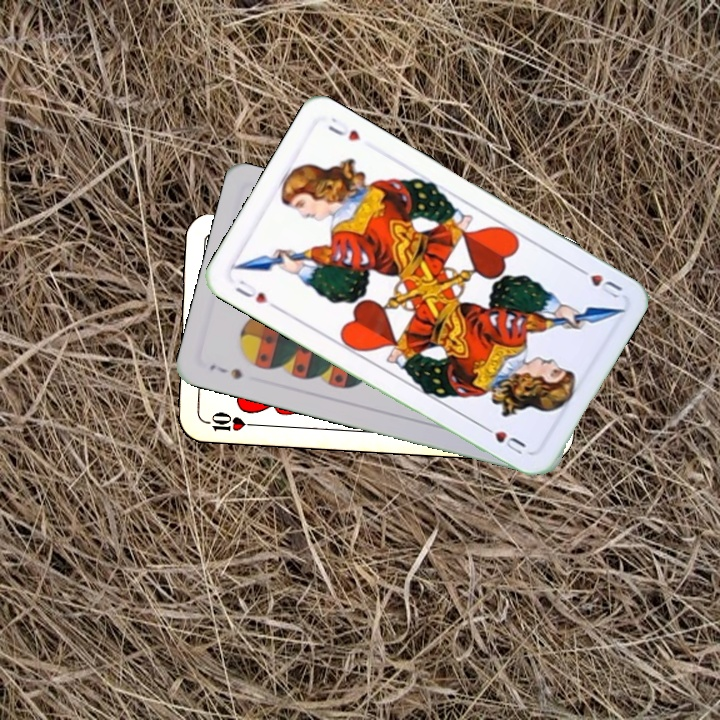H10: (199, 408, 258, 434)
HU: (572, 262, 625, 301), (231, 275, 281, 312)
S7: (205, 360, 245, 382)
